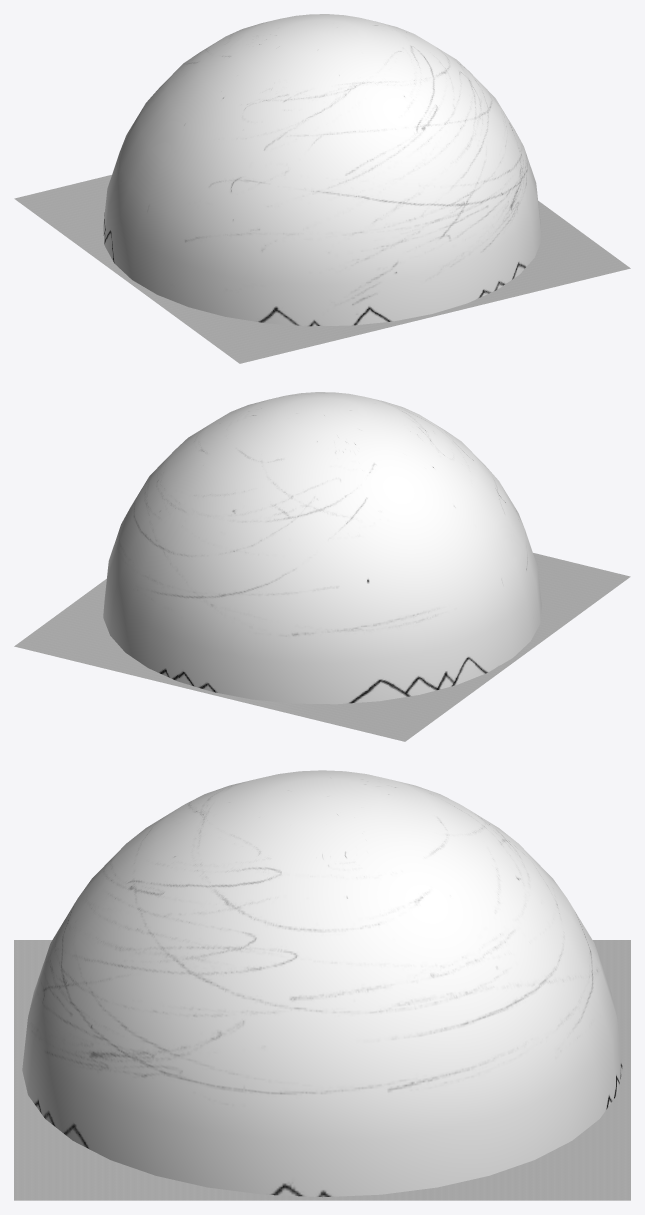
The model's file is basescenekycom.glb.
The picture shows the model from 3 angles, top to bottom: view 1: azimuth 30°, elevation 25°; view 2: azimuth 150°, elevation 25°; view 3: azimuth 270°, elevation 25°; orthographic projection. The views are drawn at different scales.
Parts seen in each view (by area): view 1: Sphere, Plane; view 2: Sphere, Plane; view 3: Sphere, Plane.
Part boxes in pixels (left/top/right/bottom): Sphere: left=103, top=14, right=541, bottom=326; Plane: left=14, top=175, right=630, bottom=363; Sphere: left=103, top=392, right=541, bottom=704; Plane: left=14, top=553, right=630, bottom=741; Sphere: left=22, top=770, right=622, bottom=1197; Plane: left=14, top=940, right=630, bottom=1200.
Bounding box in the file's own units: 583 × 284 × 583.
Materials: 2 (2 with a texture image).
